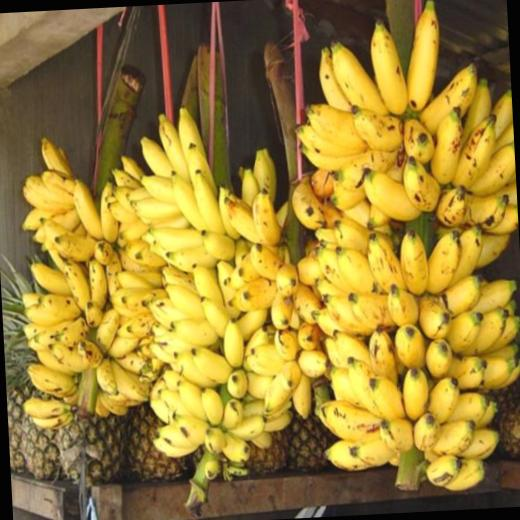Banana: (1, 0, 520, 511), (401, 0, 441, 109)
